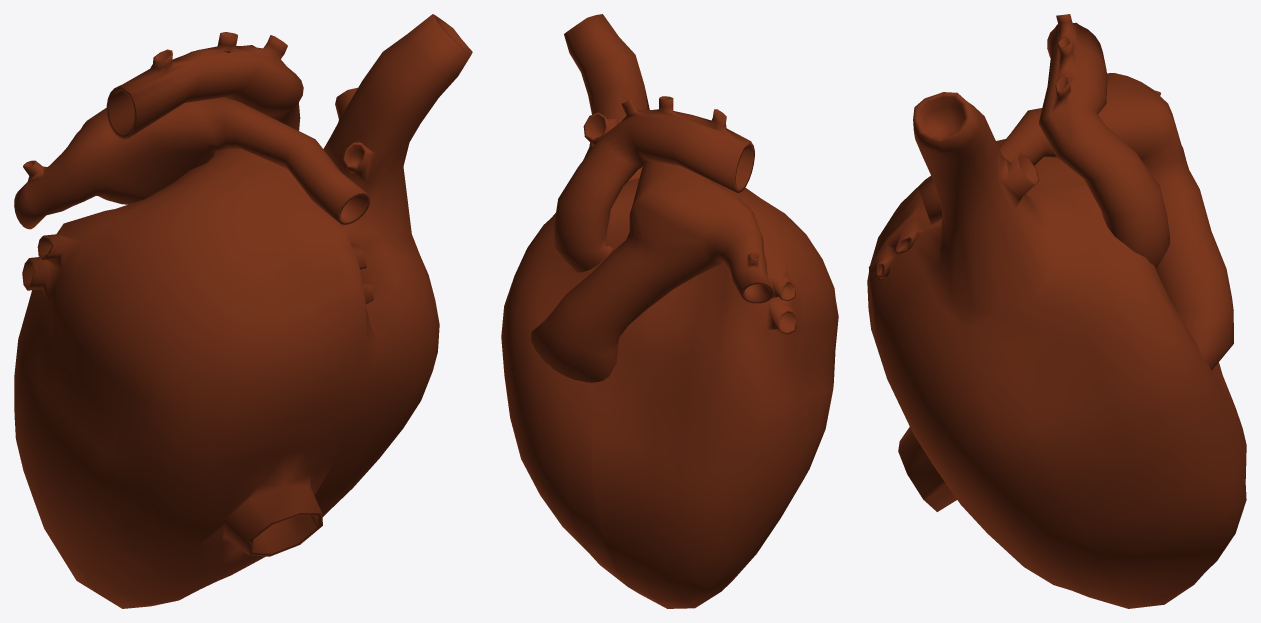
The model's file is new_heart.fbx.
3 renders of one model, left to right at view 1: azimuth 30°, elevation 25°; view 2: azimuth 150°, elevation 25°; view 3: azimuth 270°, elevation 25°, orthographic. The views are drawn at different scales.
Parts seen in each view (by area): view 1: male_heart.002; view 2: male_heart.002; view 3: male_heart.002.
Part boxes in pixels (x1=…): male_heart.002: x1=14, y1=14, x2=472, y2=608; male_heart.002: x1=501, y1=14, x2=838, y2=608; male_heart.002: x1=867, y1=14, x2=1246, y2=608.
Bounding box in the file's own units: 6.63 × 10.7 × 6.06.
